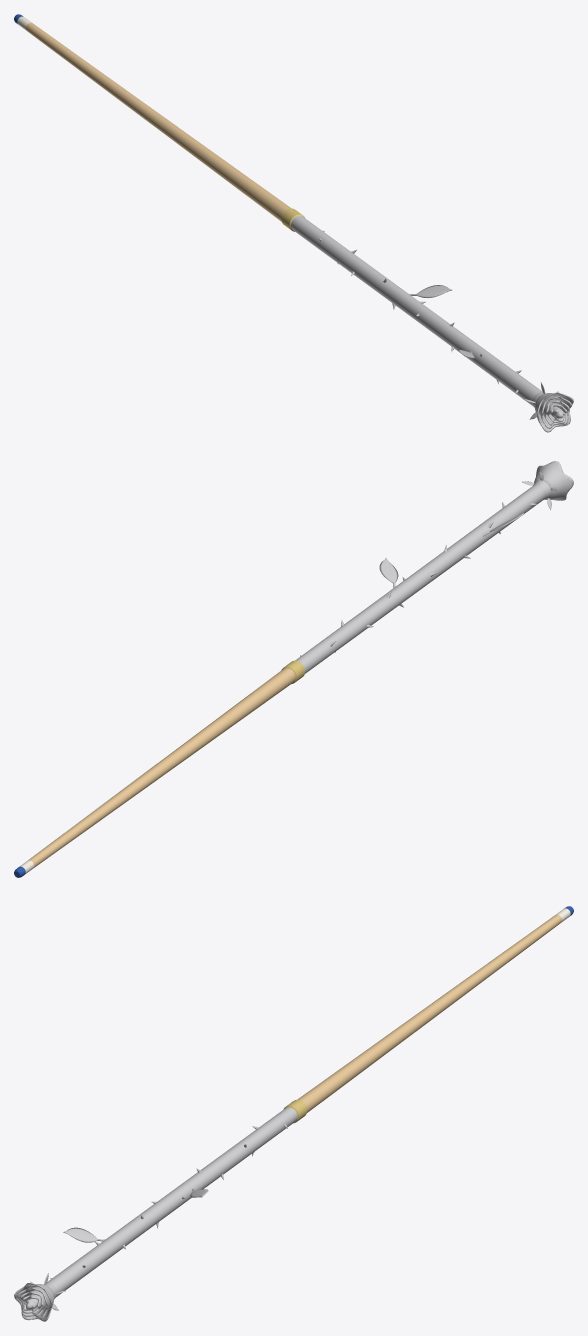
Rendered from cue_rose.glb.
3 renders of one model, top to bottom at view 1: azimuth 30°, elevation 25°; view 2: azimuth 150°, elevation 25°; view 3: azimuth 330°, elevation 25°, orthographic.
Parts seen in each view (by area): view 1: stem, shaft, petal, leaf; view 2: stem, shaft, petal, leaf; view 3: stem, shaft, petal, leaf.
Part boxes in pixels (x1,y1,x2,y2): stem: (291,216,542,406); shaft: (25,22,290,221); petal: (534,392,573,432); leaf: (416,285,558,419); stem: (295,484,546,673); shaft: (28,668,295,867); petal: (534,461,573,500); leaf: (379,472,557,583); stem: (47,1107,297,1296); shaft: (297,914,562,1112); petal: (14,1283,54,1321); leaf: (30,1189,208,1310).
Bounding box in the file's own units: 0.0973 × 0.0564 × 1.44.
